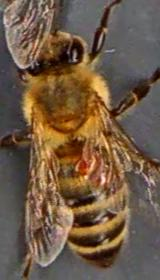varroa_mite: (66, 149, 98, 174)
